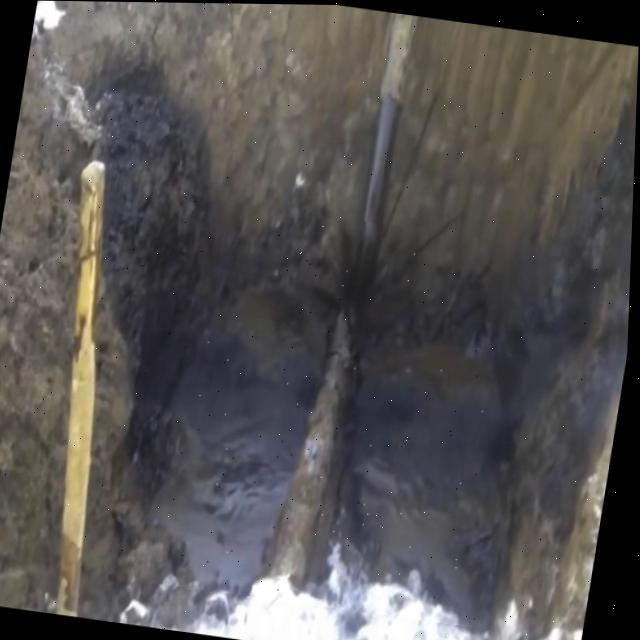spillage: (154, 309, 532, 627), (296, 214, 421, 337)
